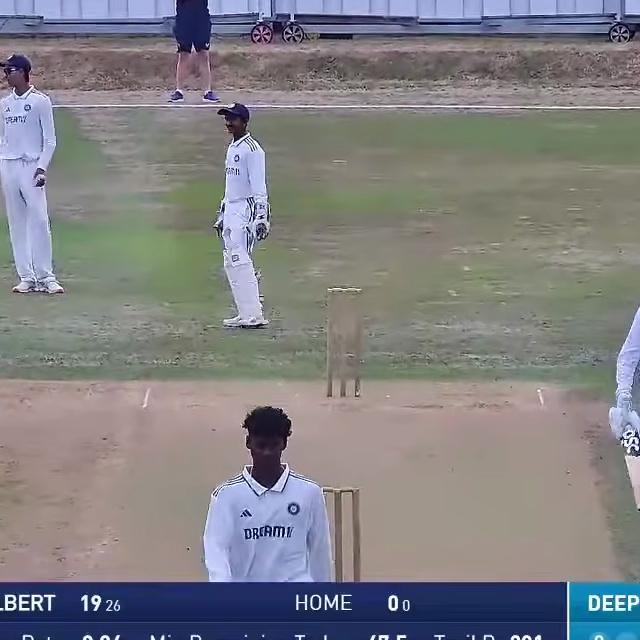person: (191, 401, 342, 640)
